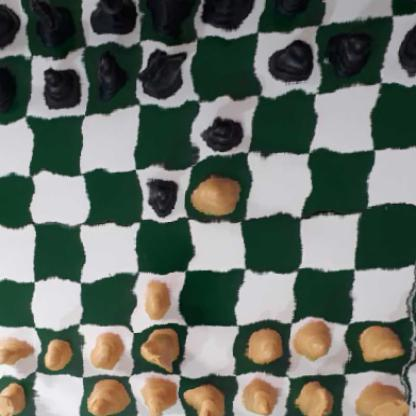black-bishop: (91, 0, 137, 40), (263, 0, 321, 23)
black-king: (198, 0, 260, 37)
black-knight: (135, 45, 190, 94), (33, 0, 76, 47)
black-pawn: (321, 21, 379, 81), (33, 56, 80, 113), (90, 46, 131, 110), (271, 35, 315, 89), (203, 108, 246, 158), (140, 172, 179, 211), (393, 17, 416, 77), (0, 60, 19, 112)
black-queen: (144, 0, 195, 34)
black-rook: (0, 0, 21, 54), (395, 0, 416, 9)
white-bishop: (237, 377, 279, 416), (86, 379, 128, 416)
white-king: (183, 380, 226, 416)
white-knight: (288, 380, 341, 416), (141, 330, 184, 373)
white-pawn: (193, 169, 240, 220), (355, 322, 408, 363), (139, 274, 179, 319), (293, 322, 336, 361), (242, 329, 285, 367), (87, 328, 124, 369), (42, 332, 76, 369), (0, 334, 34, 367)
white-queen: (135, 375, 187, 416)
white-rook: (350, 378, 414, 416), (0, 377, 30, 416)
